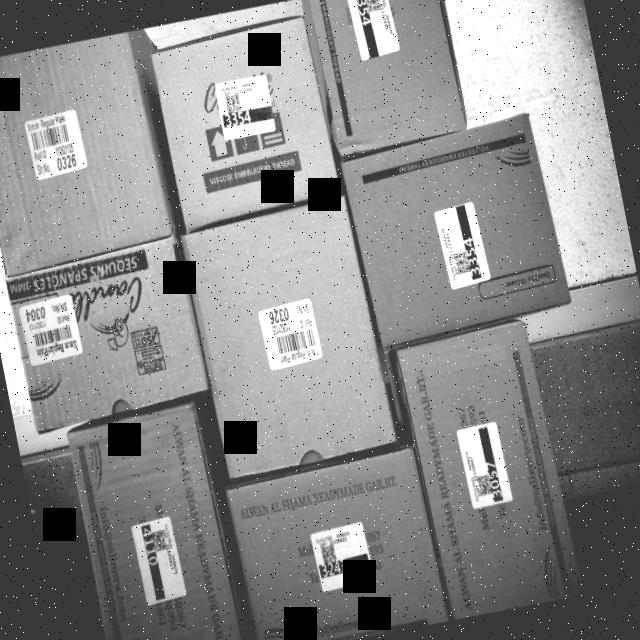box: (183, 198, 395, 474), (344, 111, 570, 349), (400, 327, 580, 620), (224, 450, 450, 640), (67, 410, 250, 640), (0, 30, 175, 267), (2, 234, 213, 428), (152, 16, 342, 222), (302, 0, 468, 153)
